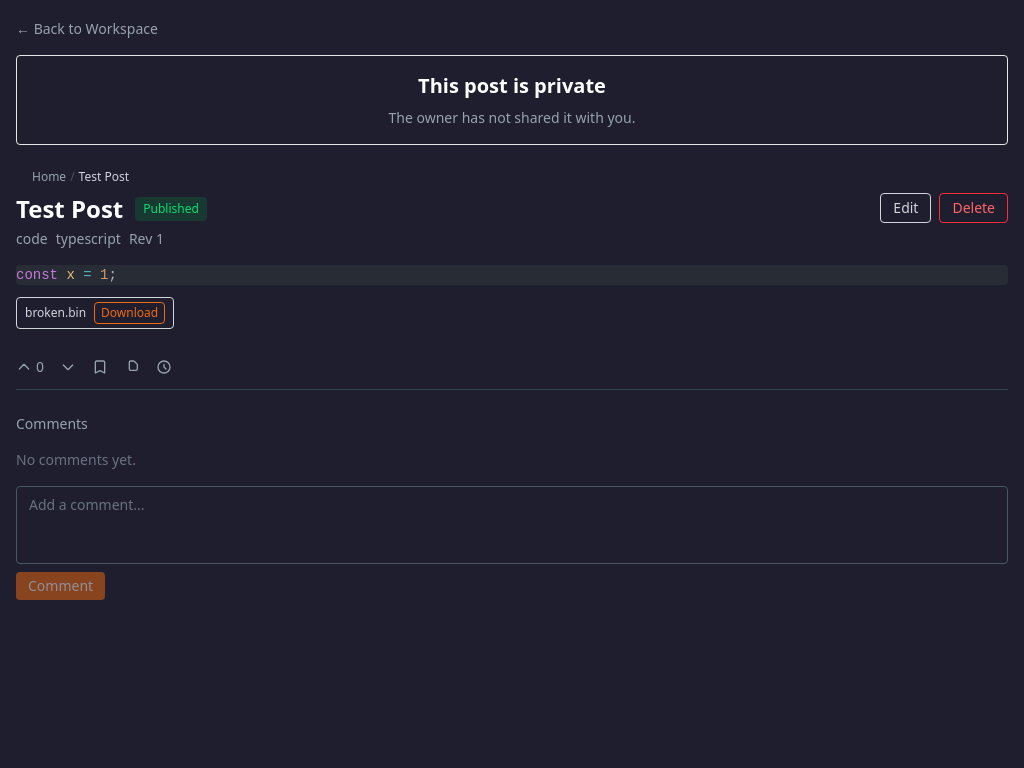
it: PostViewPage › file download affordance › error path: non-ok response surfaces a "Failed to download <filename>" error and skips ObjectURL
Click the button with test id "post-file-download-link": point(130, 313) [94,302,165,324]
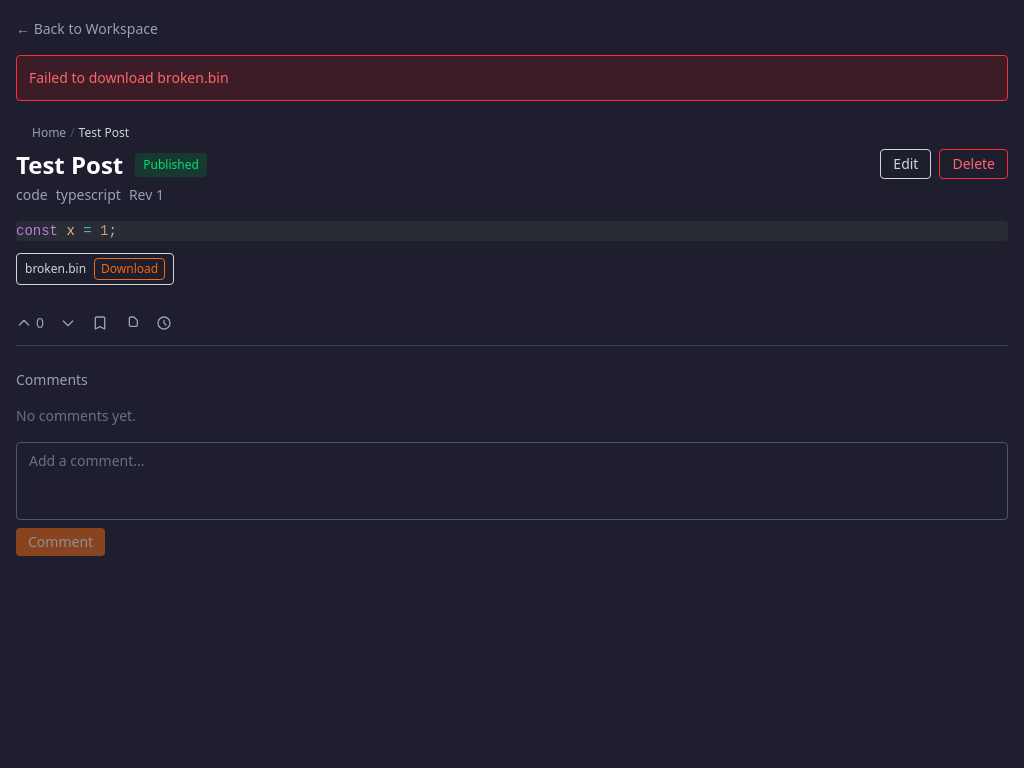
Expected: the text "Failed to download broken.bin" is shown, [16,55,1008,101]
